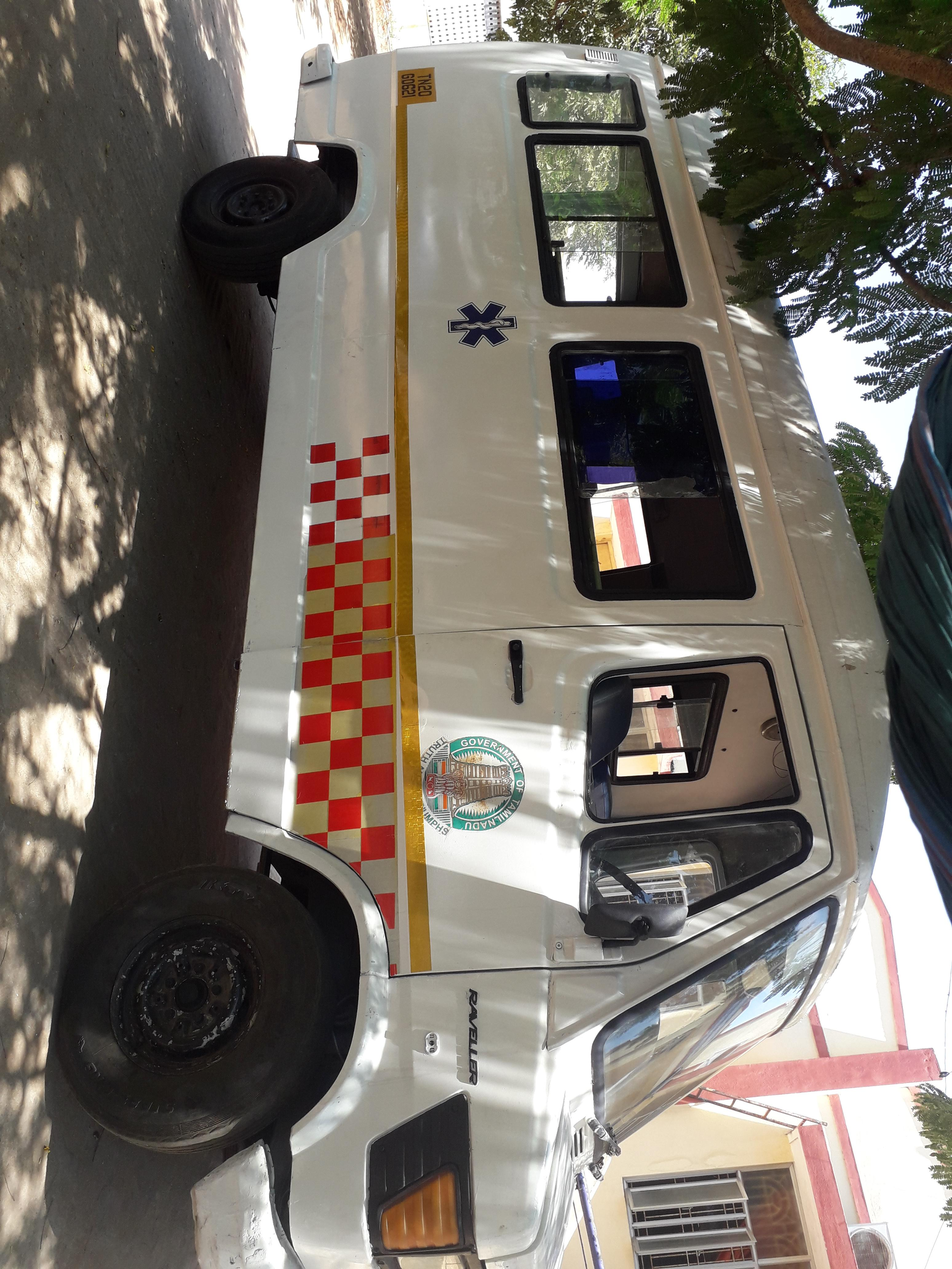non-ambulance: (164, 67, 952, 1269)
